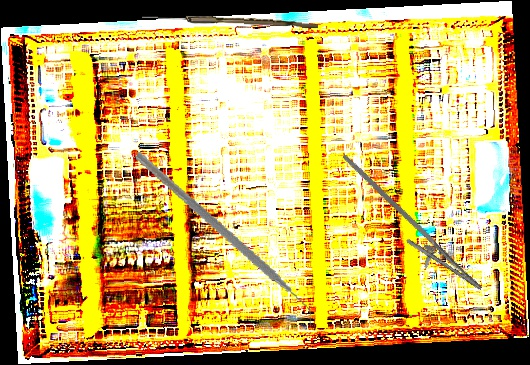Chopper: (111, 151, 336, 332)
Needle Holder: (318, 153, 498, 303)
Surgical Spoon: (141, 13, 319, 29)
